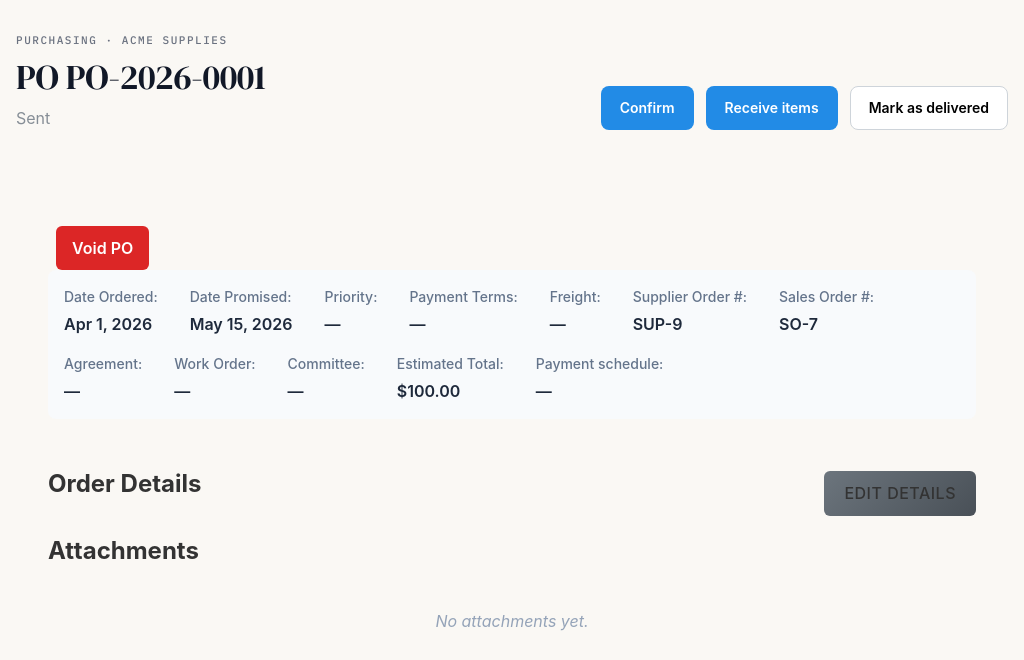
Test: PurchaseOrderPage mark-delivered reactive contract (gh-453) › patches the page from the mark-delivered response without a follow-up GET
// Initial render: the "Mark as delivered" affordance is shown for sent POs.
Step 1. Click the button "Mark as delivered" → (929, 108), box [850,86,1008,130]
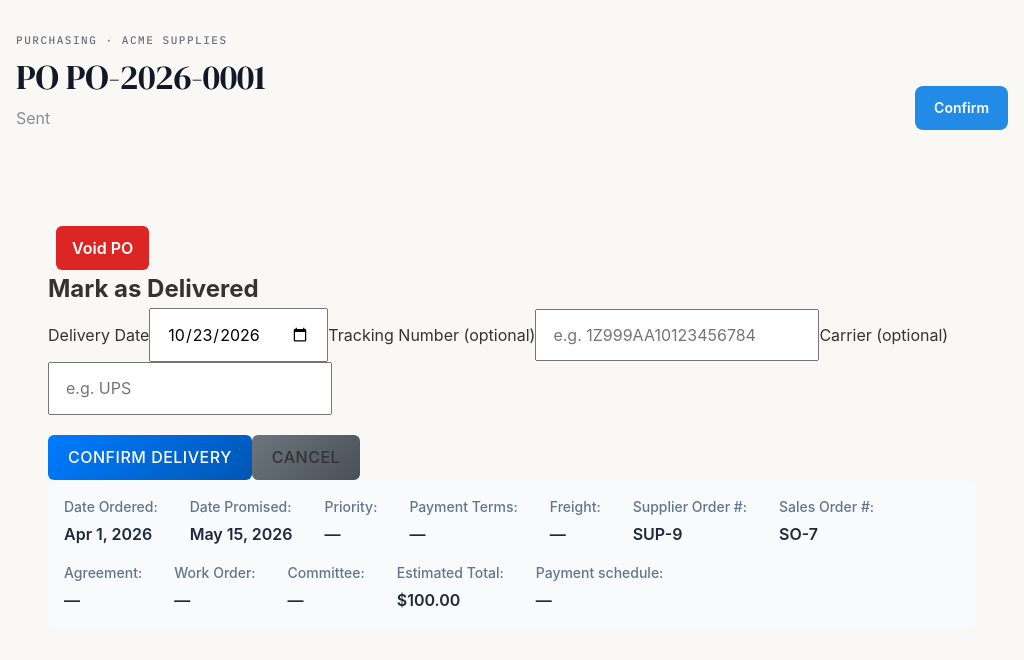
Step 2. Type "2026-05-10" into the date field labelled "Delivery Date" → (239, 335), box [149,308,328,362]
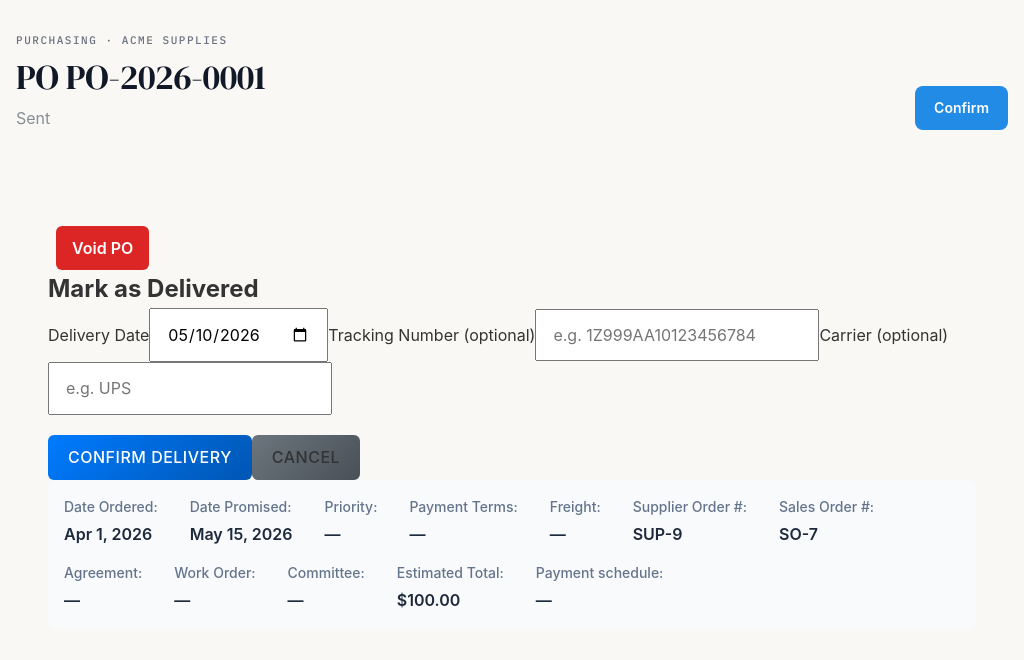
Step 3. Click the button "Confirm Delivery" → (150, 458), box [48,435,252,480]
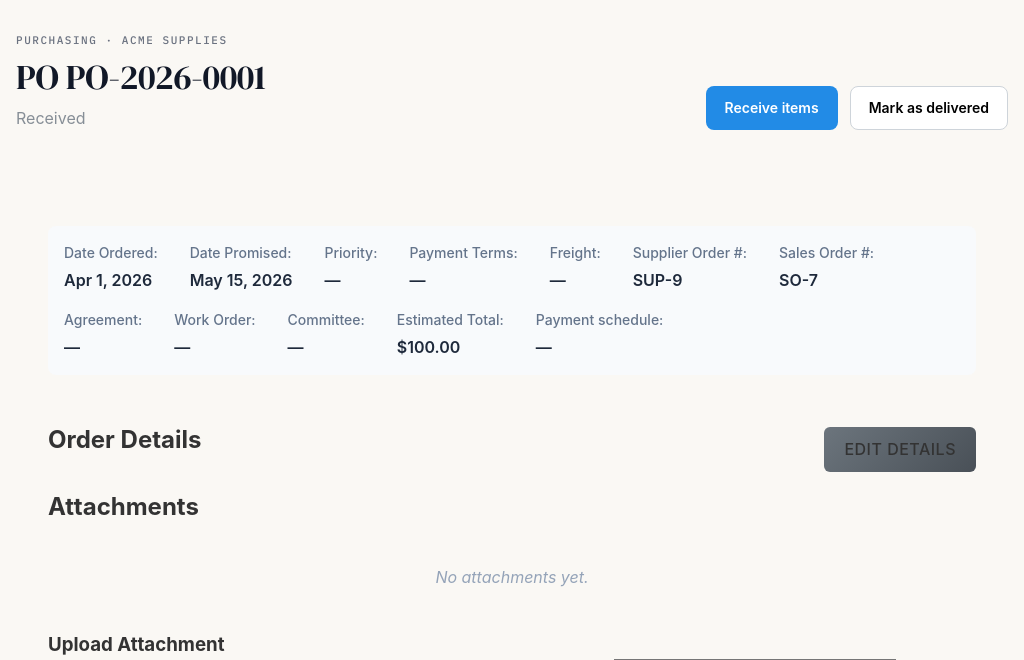
expect the text "Received" is shown: met, box [16,108,86,128]
